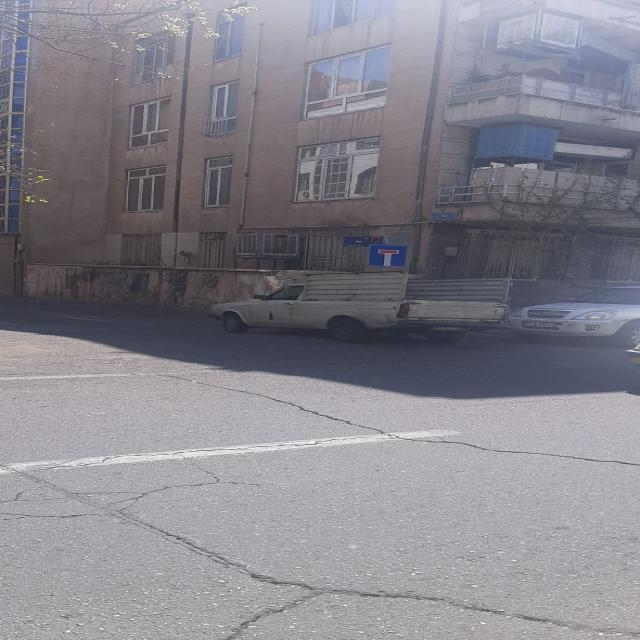no through road: (367, 245, 406, 266)
